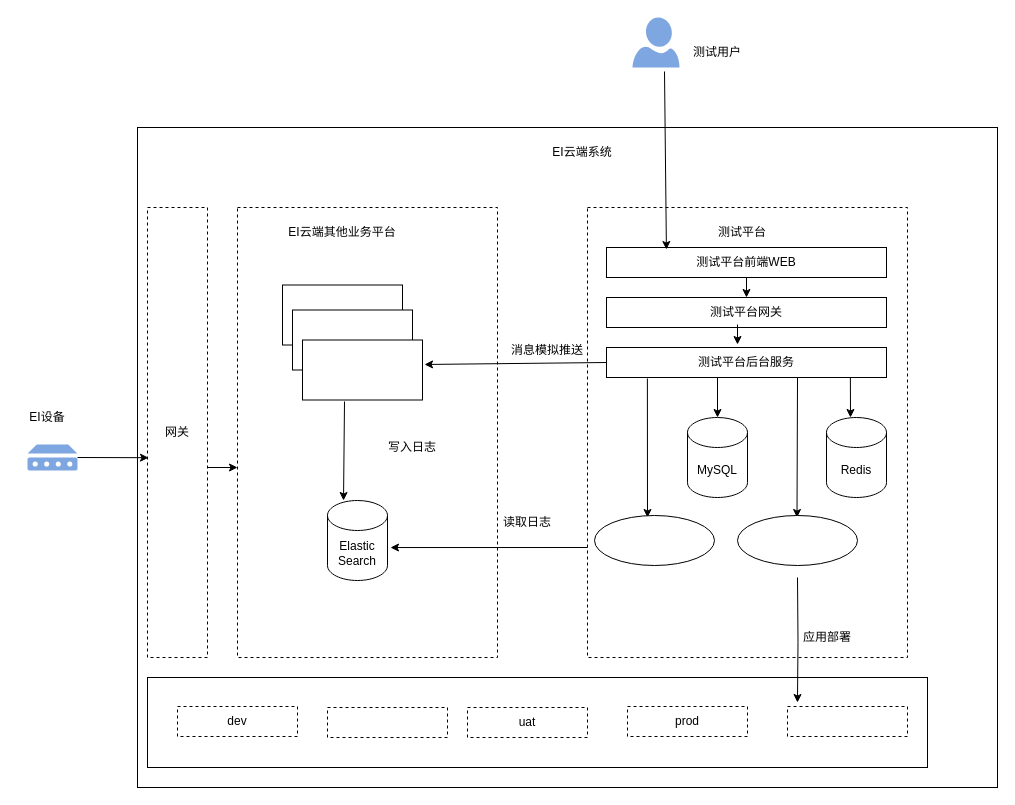
Image size: 1015x805. Some labels were removed from this diagram. Each missing label, with the centre of its shape:
"ES API" belongs at [654,540].
"Jenkins API" belongs at [797,540].
"test" belongs at [387,722].
"其他服务" belongs at [362,369].
"应用部署环境" belongs at [847,721].
